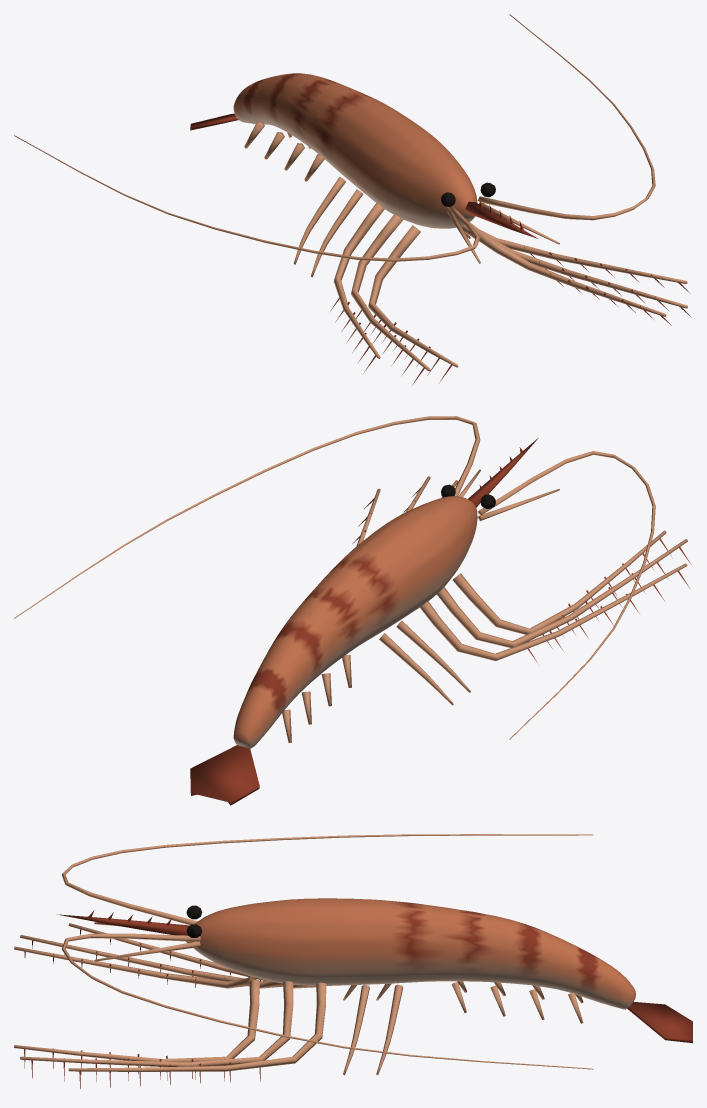
Rendered from Aeger.fbx.
3 views of the same model, one above another, from view 1: azimuth 30°, elevation 25°; view 2: azimuth 150°, elevation 25°; view 3: azimuth 270°, elevation 25° (orthographic). The views are drawn at different scales.
Parts seen in each view (by area): view 1: Aeger; view 2: Aeger; view 3: Aeger.
Boxes of the visible parts, x1=… form: Aeger: x1=14, y1=14, x2=691, y2=385; Aeger: x1=14, y1=416, x2=691, y2=805; Aeger: x1=14, y1=834, x2=692, y2=1088.
Size of the model in its own units: 1 by 0.2713 by 1.23.
